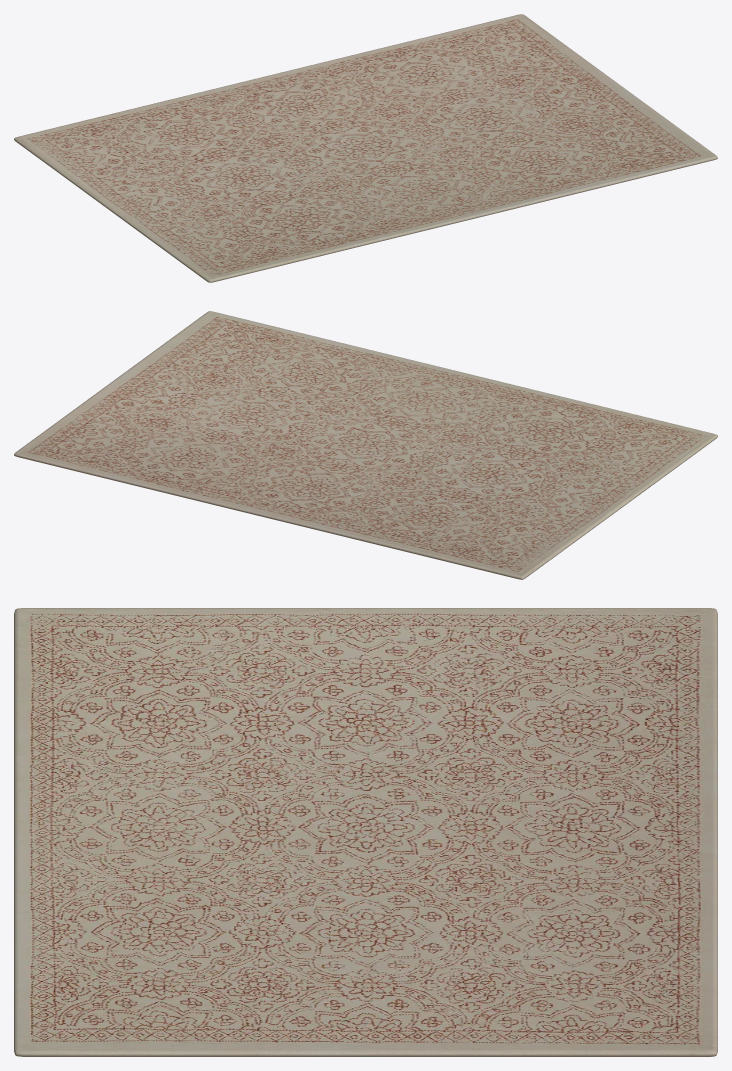
File: B07QGG524D.glb
The picture shows the model from 3 angles, top to bottom: view 1: azimuth 30°, elevation 25°; view 2: azimuth 150°, elevation 25°; view 3: azimuth 270°, elevation 25°; orthographic projection. The views are drawn at different scales.
Parts seen in each view (by area): view 1: RootNode; view 2: RootNode; view 3: RootNode.
Boxes of the visible parts, x1,y1,x2,y2 form: RootNode: (14,14,717,282); RootNode: (14,311,717,579); RootNode: (14,608,717,1056).
Bounding box in the file's own units: 1.83 × 0.01 × 1.22.
1 material, 1 textured.
